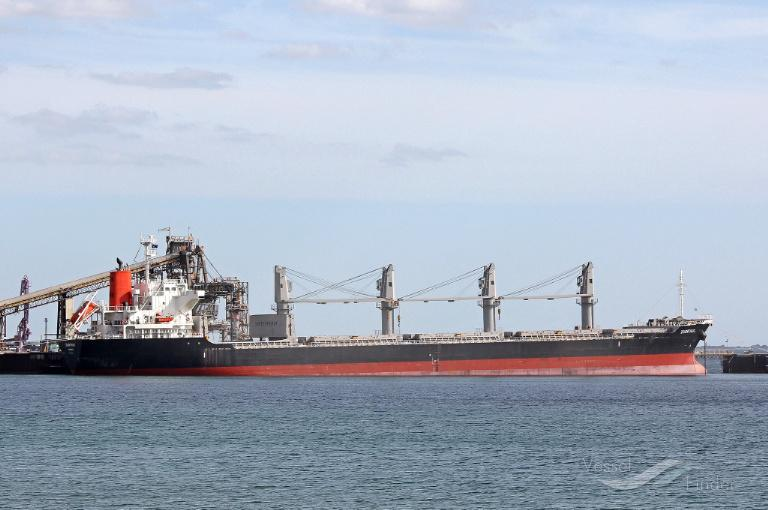OCR: (674, 324, 704, 337)
